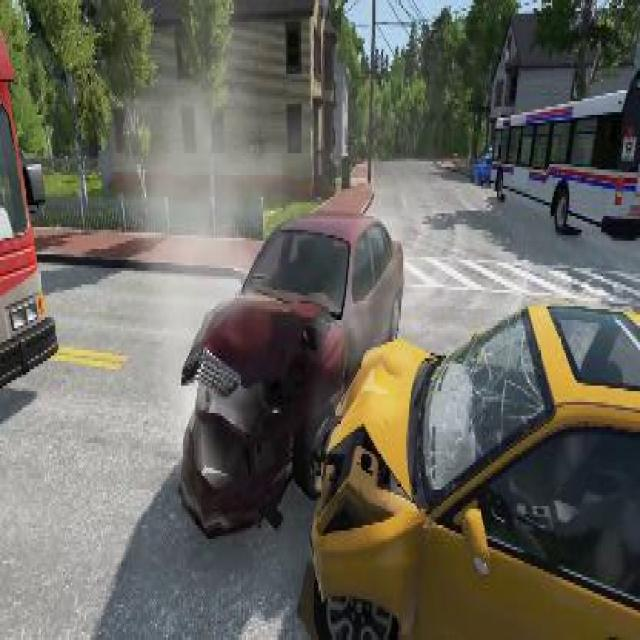accident: (176, 199, 638, 640)
